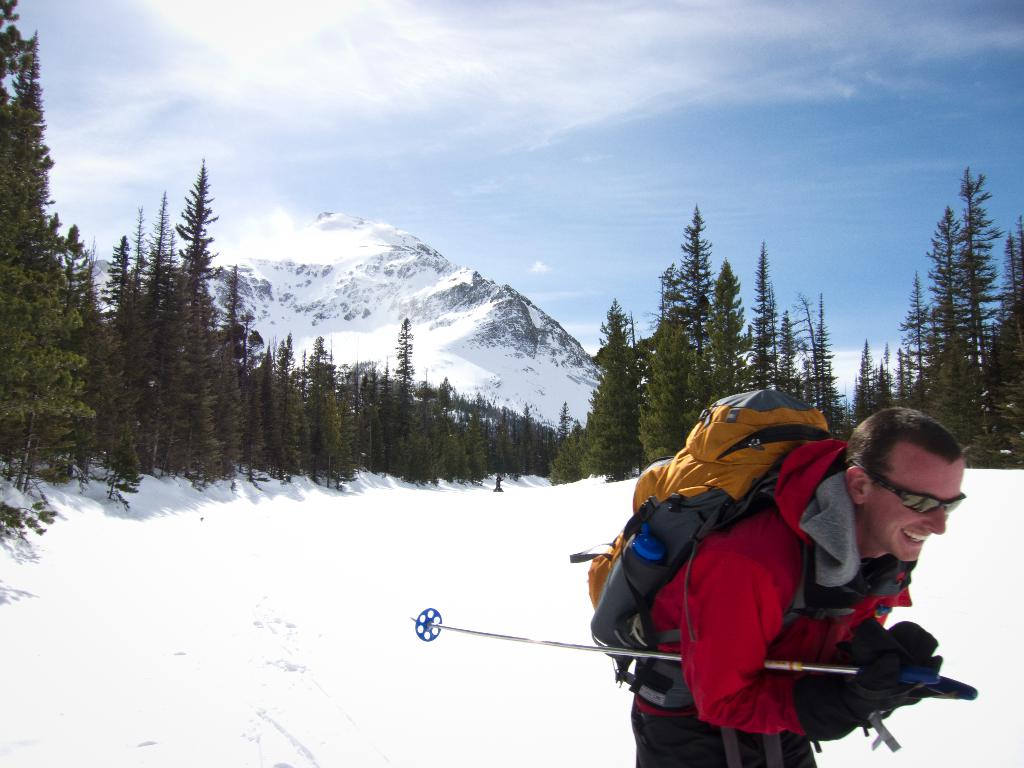Tree: (0, 0, 1024, 544)
